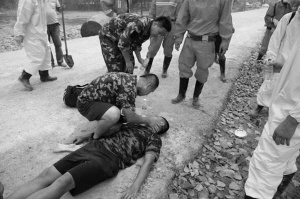falling: (59, 70, 166, 129)
